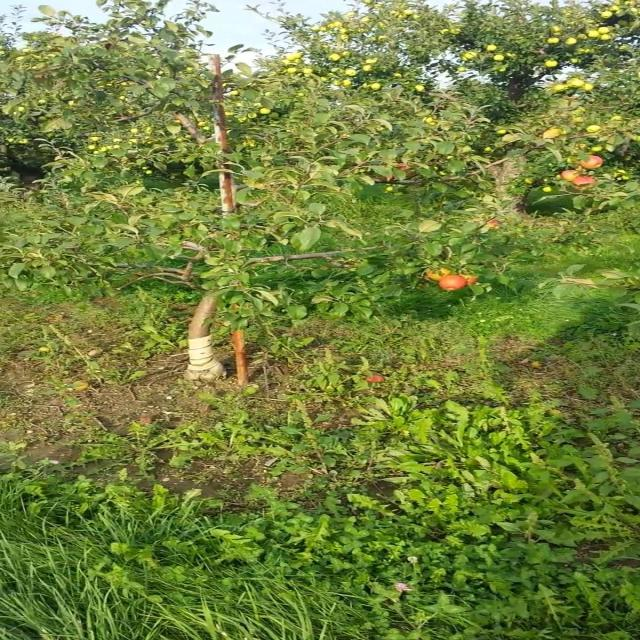apple: (438, 275, 467, 291), (578, 155, 604, 169), (424, 268, 451, 281), (571, 175, 596, 188), (560, 169, 580, 181), (461, 274, 478, 284), (394, 162, 410, 172), (486, 218, 500, 228)
